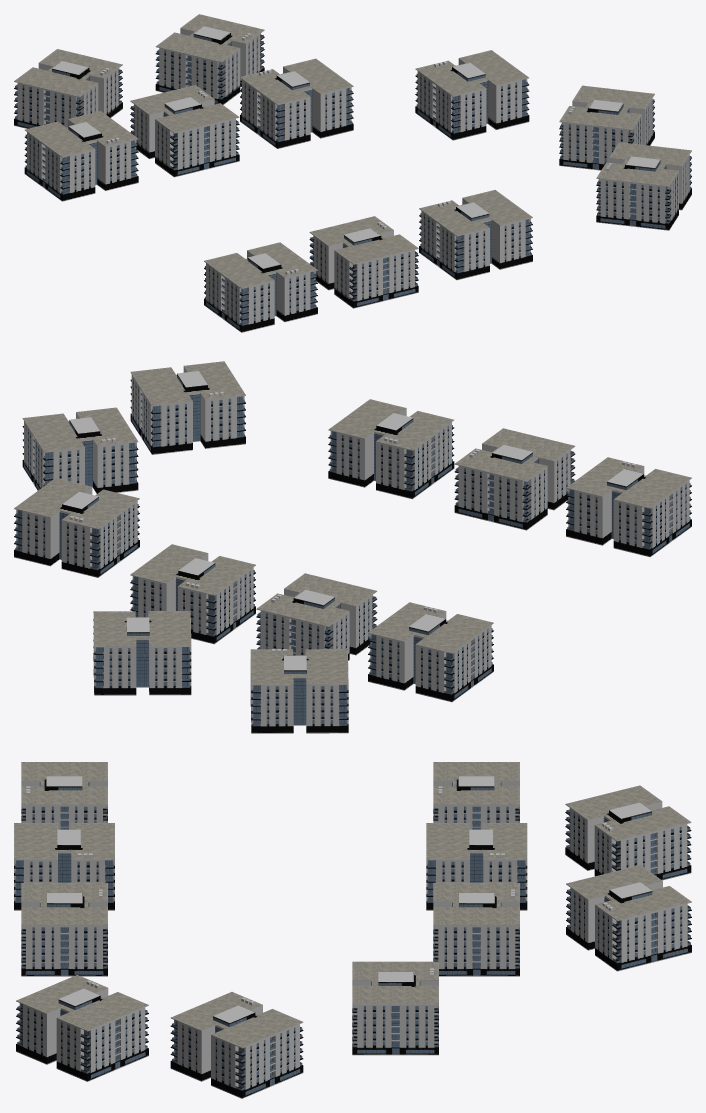
File: SM_Buildings_01a.fbx
3 views of the same model, one above another, from view 1: azimuth 30°, elevation 25°; view 2: azimuth 150°, elevation 25°; view 3: azimuth 270°, elevation 25° (orthographic). The views are drawn at different scales.
Visible parts, largest first — view 1: SM_Buildings01a; view 2: SM_Buildings01a; view 3: SM_Buildings01a.
Boxes of the visible parts, bbox=[...] form: SM_Buildings01a: bbox=[14, 14, 691, 332]; SM_Buildings01a: bbox=[14, 361, 691, 733]; SM_Buildings01a: bbox=[14, 762, 691, 1098].
Size of the model in its own units: 286 by 25.79 by 287.
